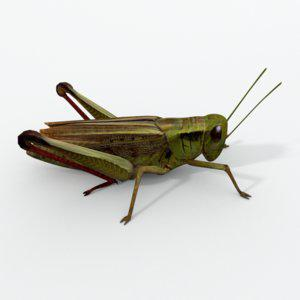locust: (23, 71, 269, 217)
